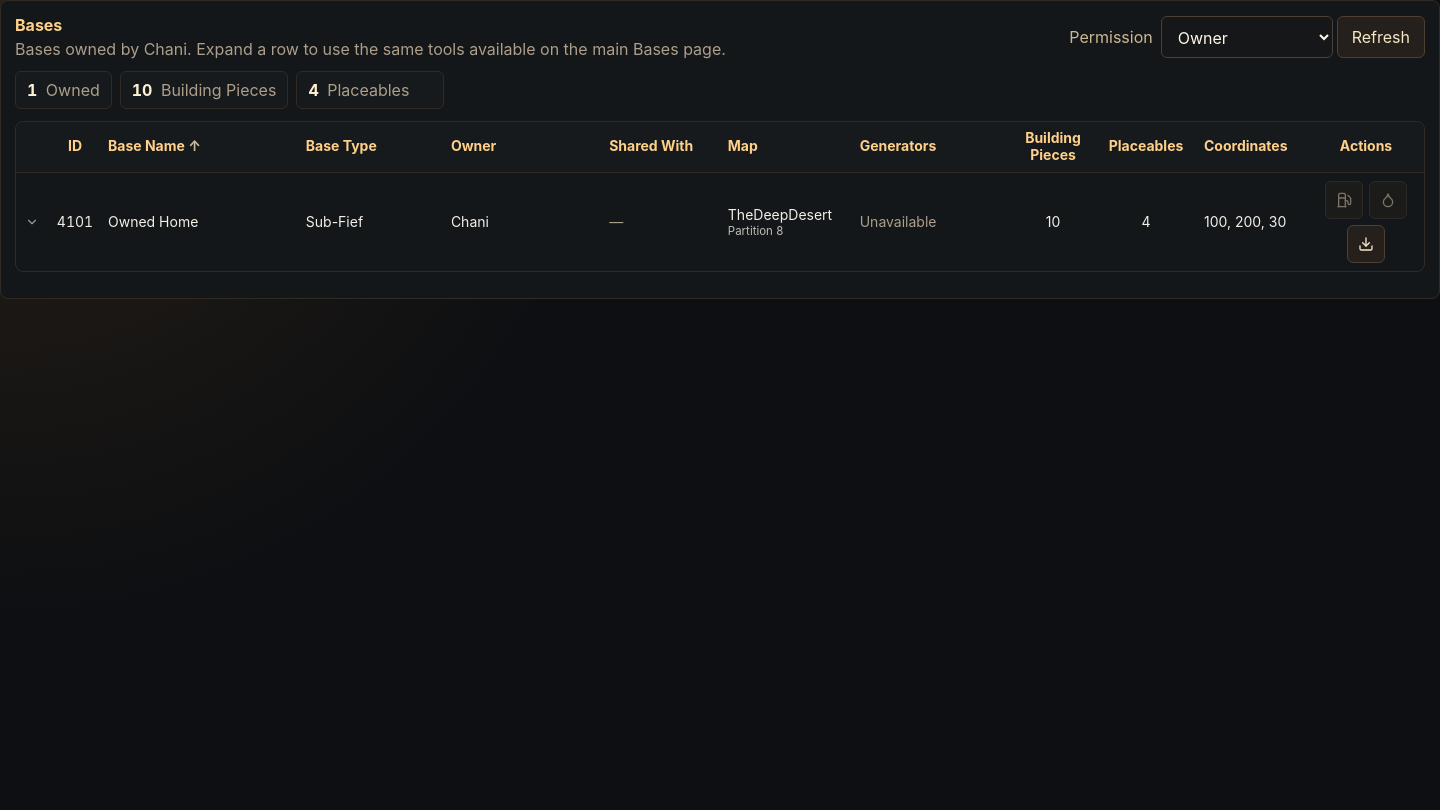
Test case: BasesPanel player scope › loads only the selected player's owned and shared bases
Check: the text "Owned Home" is shown, box [108,213,198,230]
Check: the element named "Player base totals" shows "1 Owned", box [15,71,444,109]
Opens the format choice for that base rather than downloading.
Click the button named "Download Base" at (1366, 244), box [1347,225,1385,263]
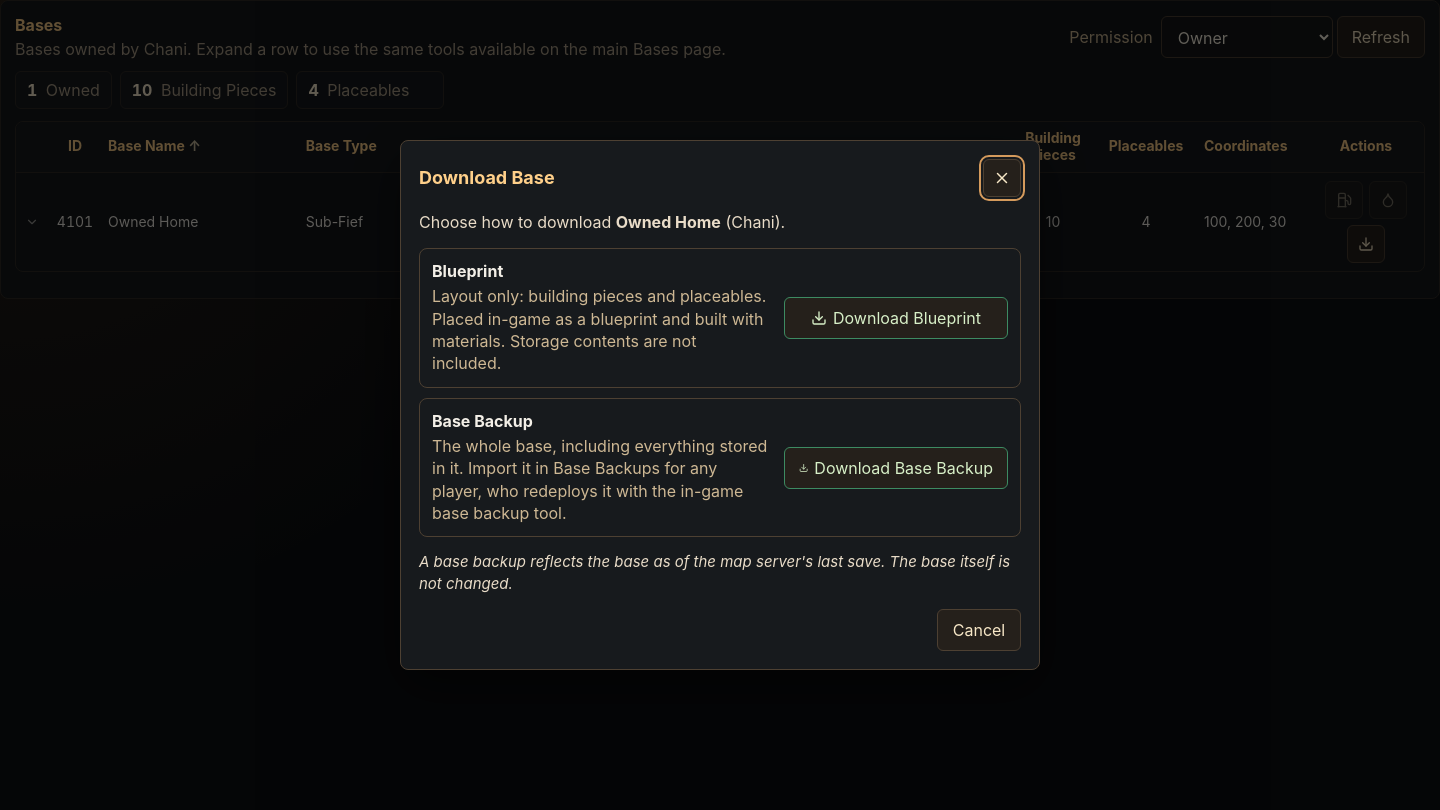
Check: the dialog "Download Base" shows "Owned Home", box [616,212,721,232]
Check: the button "Download Blueprint" is enabled, box [784,297,1008,339]
Check: the button "Download Base Backup" is enabled, box [784,447,1008,489]
Click the button "Cancel" at (979, 630), box [937,609,1021,651]
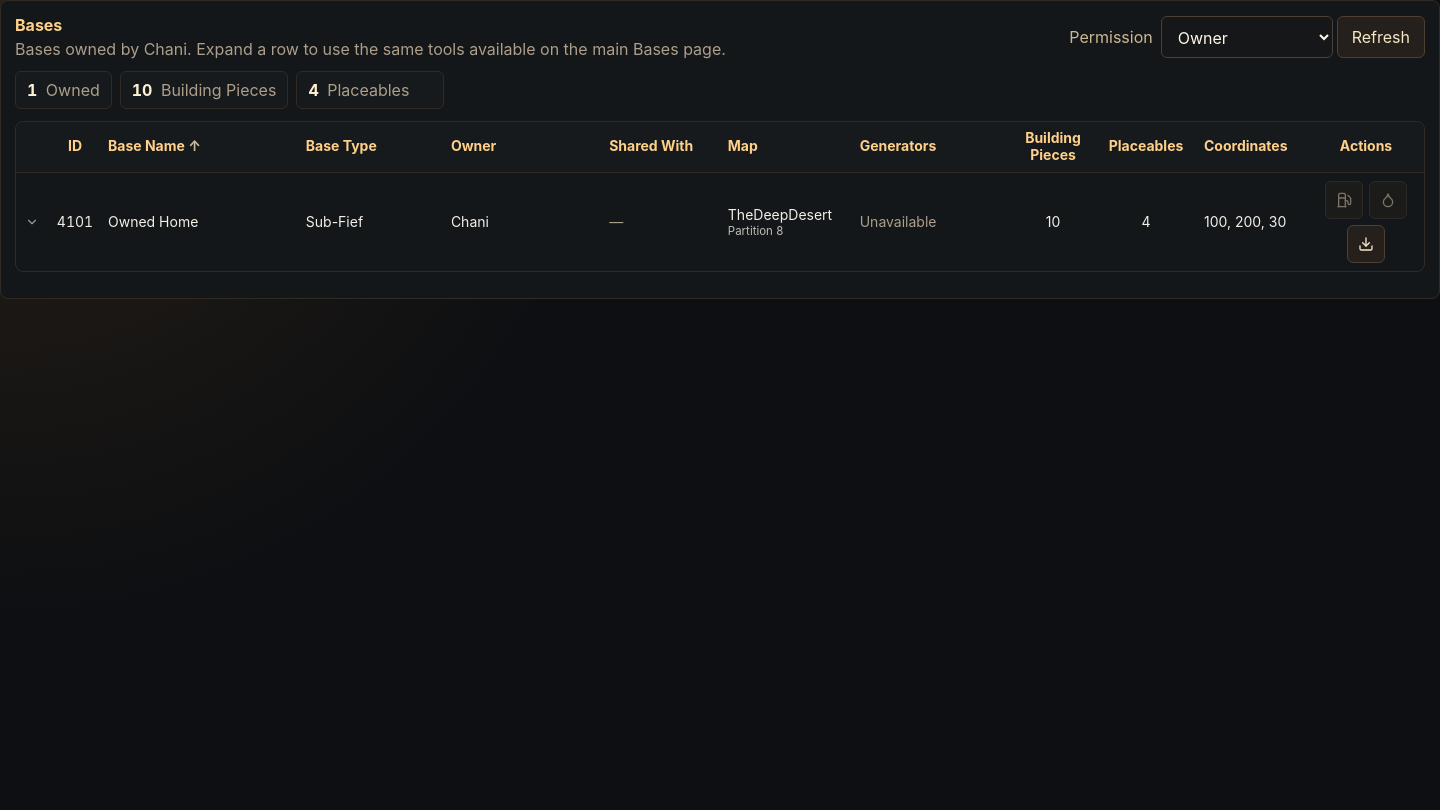
Check: the heading "Download Base" is gone
